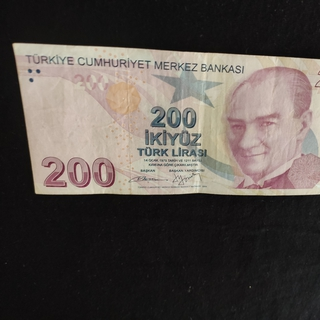200TLFront: (11, 42, 320, 195)
